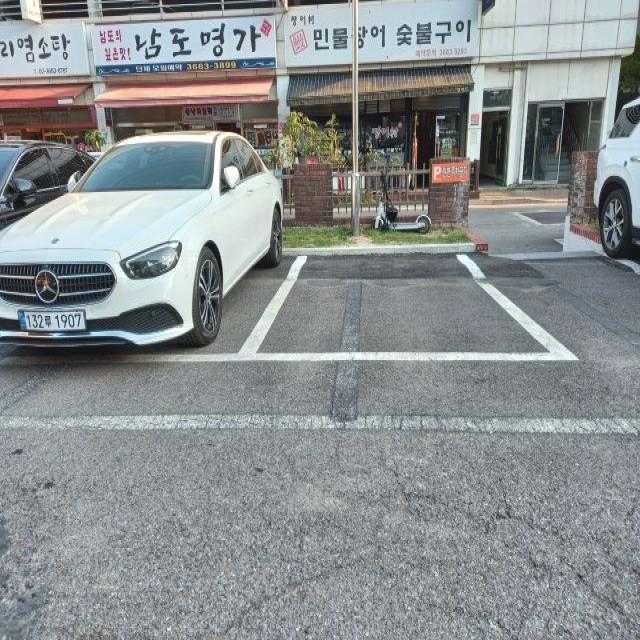car: (25, 150, 293, 376)
free: (245, 241, 568, 349)
